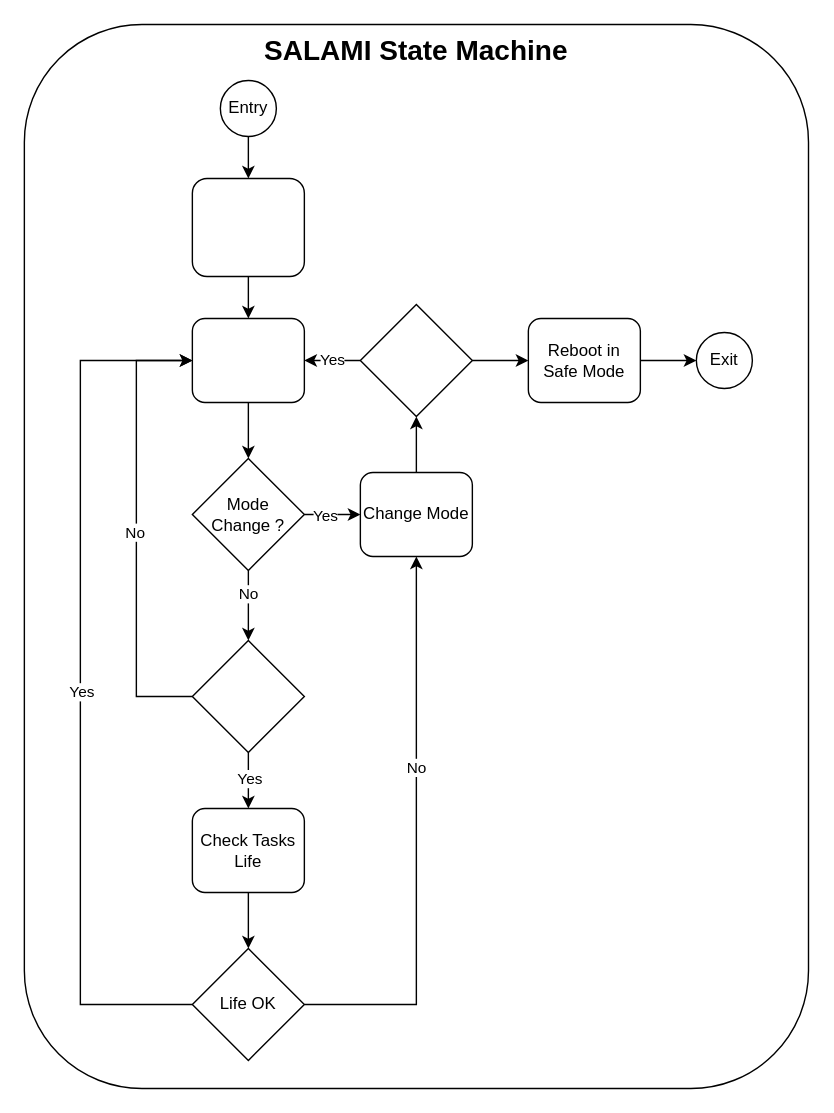
Image size: 834x1113. Some labels were removed from this diagram. The shapes that lost their labels are listed below. From the top down, each one's centre as x and y in pixels, then its label:
point (247, 226): Initialization
point (247, 359): Check for Mode Change
point (415, 359): Effective Mode Change
point (247, 695): LifeTimer Ended
